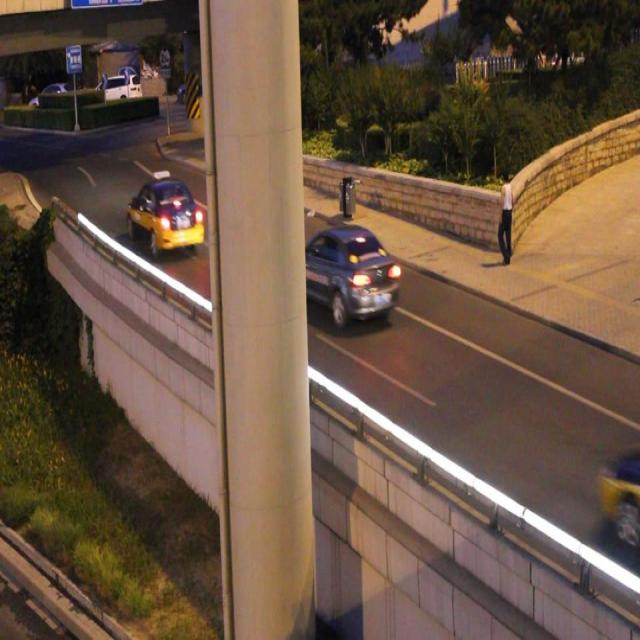car: (293, 229, 396, 319), (128, 176, 203, 248), (597, 445, 640, 543)
